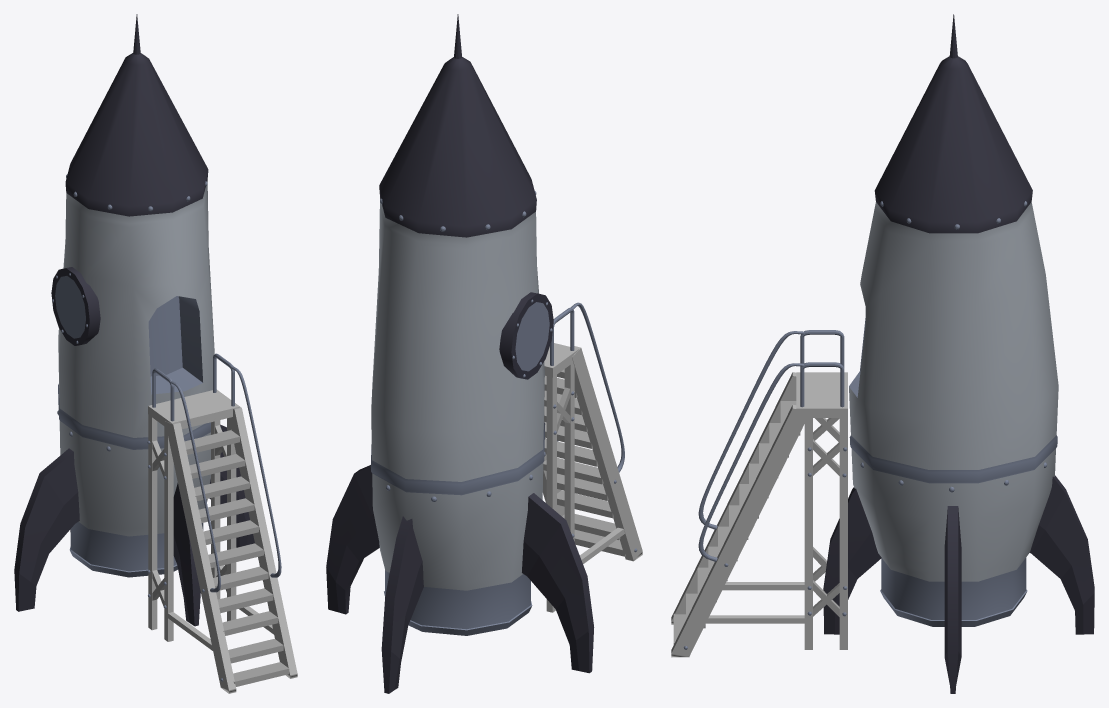
File: Rocketedit.fbx
3 views of the same model, side by side, from view 1: azimuth 30°, elevation 25°; view 2: azimuth 150°, elevation 25°; view 3: azimuth 270°, elevation 25° (orthographic). The views are drawn at different scales.
Parts seen in each view (by area): view 1: Rocket_stairs; view 2: Rocket_stairs; view 3: Rocket_stairs.
Part boxes in pixels (x1,y1,x2,y2): Rocket_stairs: (14, 14, 297, 693); Rocket_stairs: (326, 14, 642, 693); Rocket_stairs: (671, 14, 1094, 693).
Bounding box in the file's own units: 26.83 × 62.04 × 37.98.
